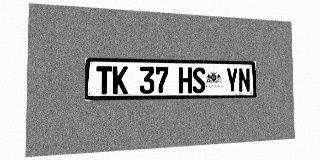3: (140, 66, 154, 94)
7: (155, 67, 169, 94)
H: (179, 67, 192, 93)
K: (112, 66, 128, 94)
N: (238, 68, 250, 92)
S: (192, 67, 206, 93)
T: (96, 66, 112, 94)
Y: (226, 68, 238, 93)
